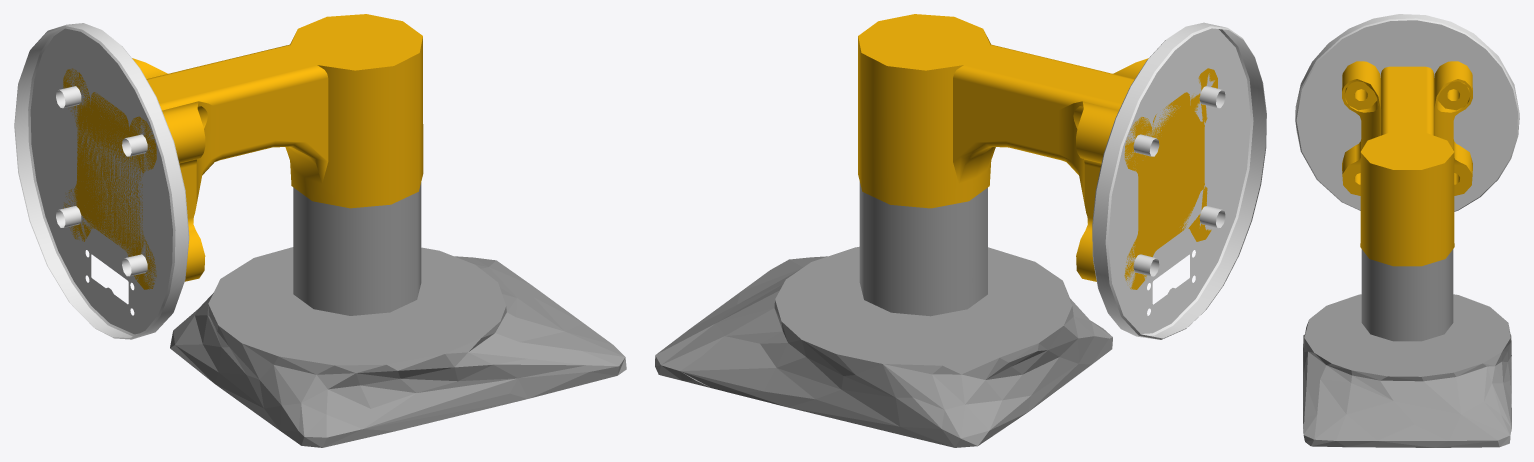
The model's file is FlatHands.obj.
3 renders of one model, left to right at view 1: azimuth 30°, elevation 25°; view 2: azimuth 150°, elevation 25°; view 3: azimuth 270°, elevation 25°, orthographic. The views are drawn at different scales.
Parts seen in each view (by area): view 1: Flat Hand, Body1:1, Body1:3, Body1:2; view 2: Flat Hand, Body1:1, Body1:3, Body1:2; view 3: Flat Hand, Body1:1, Body1:3, Body1:2.
Part boxes in pixels (x1,y1,x2,y2): Flat Hand: (170, 247, 626, 447); Body1:1: (63, 14, 423, 289); Body1:3: (14, 23, 189, 339); Body1:2: (293, 182, 421, 315); Flat Hand: (655, 246, 1112, 447); Body1:1: (858, 14, 1217, 289); Body1:3: (1092, 22, 1266, 339); Body1:2: (859, 182, 987, 316); Flat Hand: (1303, 294, 1511, 447); Body1:1: (1342, 61, 1472, 266); Body1:3: (1295, 14, 1519, 211); Body1:2: (1361, 249, 1453, 341).
Size of the model in its own units: 0.1446 by 0.1162 by 0.086.
